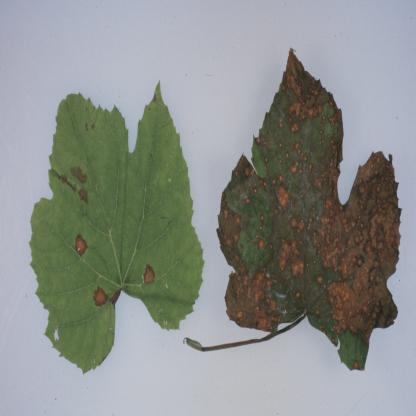grape leaf black rot: (210, 42, 408, 375), (13, 76, 207, 394)
